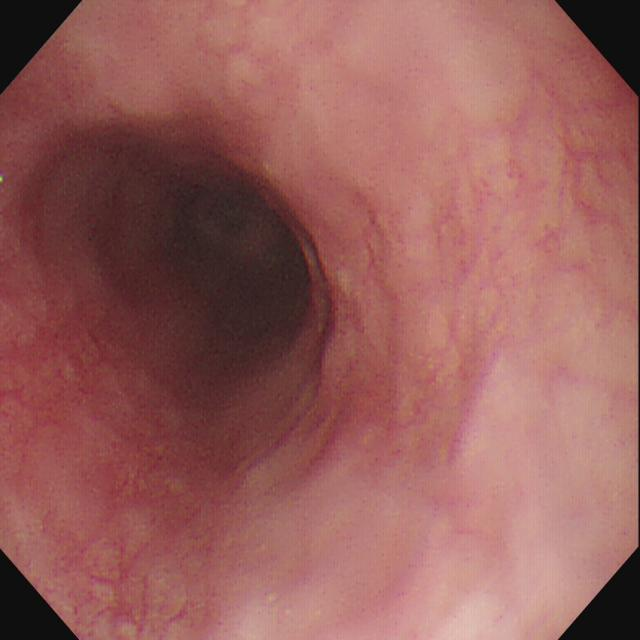A: (90, 539, 189, 640)
